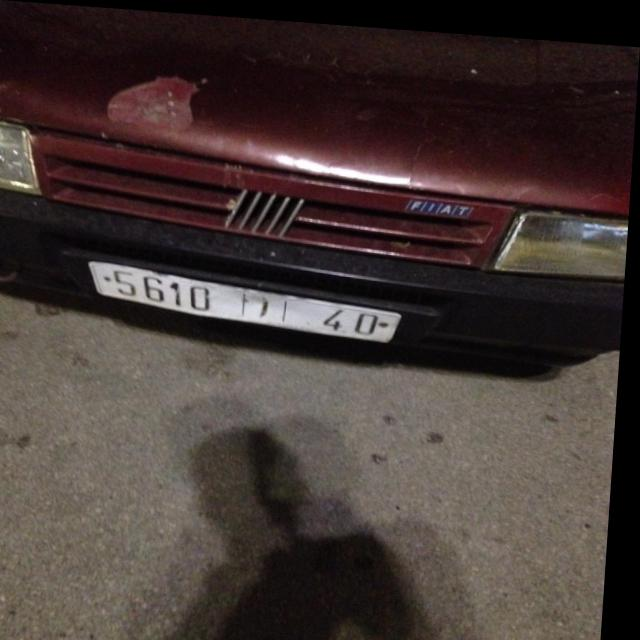License-Plate: (92, 259, 405, 336)
